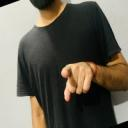hand: (60, 61, 96, 102)
